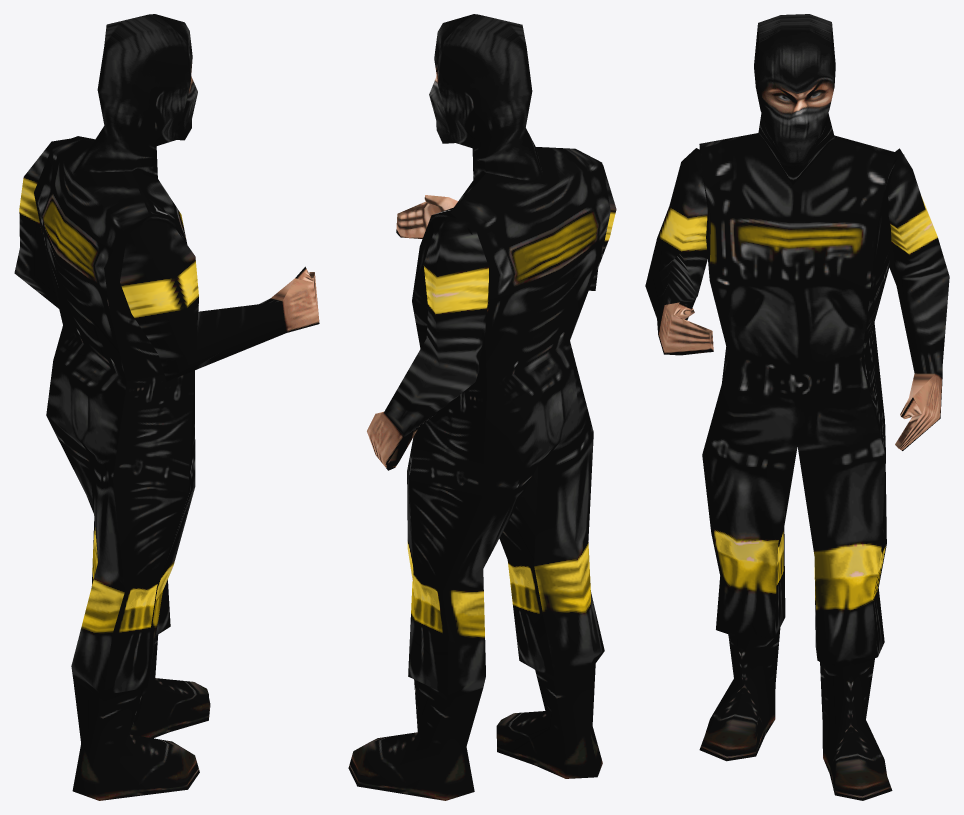
The model's file is spy2_yellow.glb.
The picture shows the model from 3 angles, left to right: view 1: azimuth 30°, elevation 25°; view 2: azimuth 150°, elevation 25°; view 3: azimuth 270°, elevation 25°; orthographic projection.
Parts seen in each view (by area): view 1: spy2; view 2: spy2; view 3: spy2.
Boxes of the visible parts, box(x1,y1,x2,y2) form: spy2: box(14, 14, 319, 800); spy2: box(348, 14, 616, 800); spy2: box(645, 14, 949, 800).
Bounding box in the file's own units: 23.41 × 74.5 × 28.01.
Materials: 1 (1 with a texture image).
